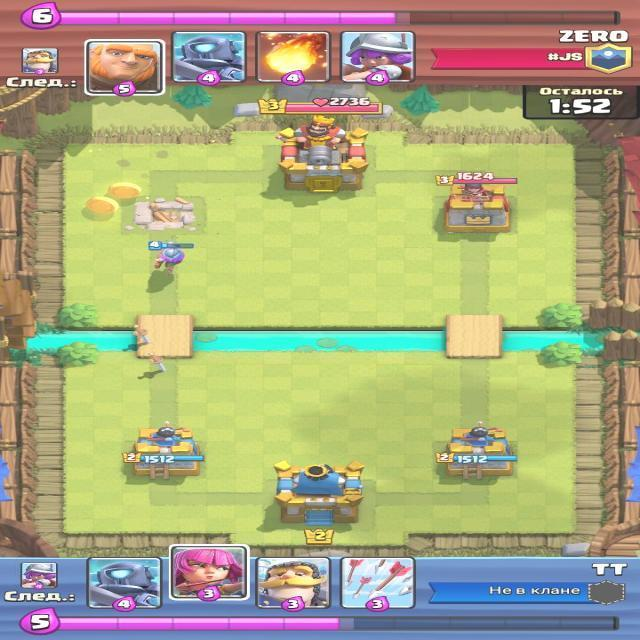EKingTower: (277, 115, 368, 191)
EnemyPrincessTower: (445, 181, 510, 232)
OMusk: (147, 242, 194, 271)
OwnKingTower: (274, 462, 363, 525)
OwnPrincessTower: (123, 423, 203, 478), (436, 427, 516, 478)
TowerDown: (120, 194, 207, 236)
